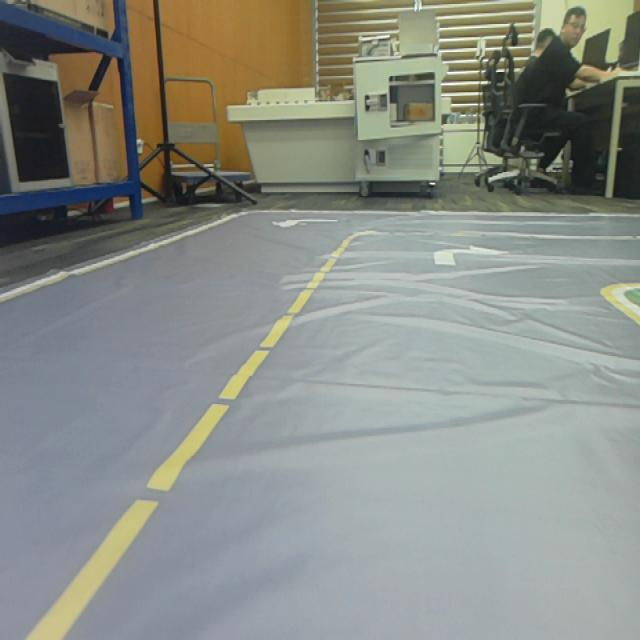left_lane: (26, 234, 354, 638)
right_lane: (602, 297, 640, 324)
